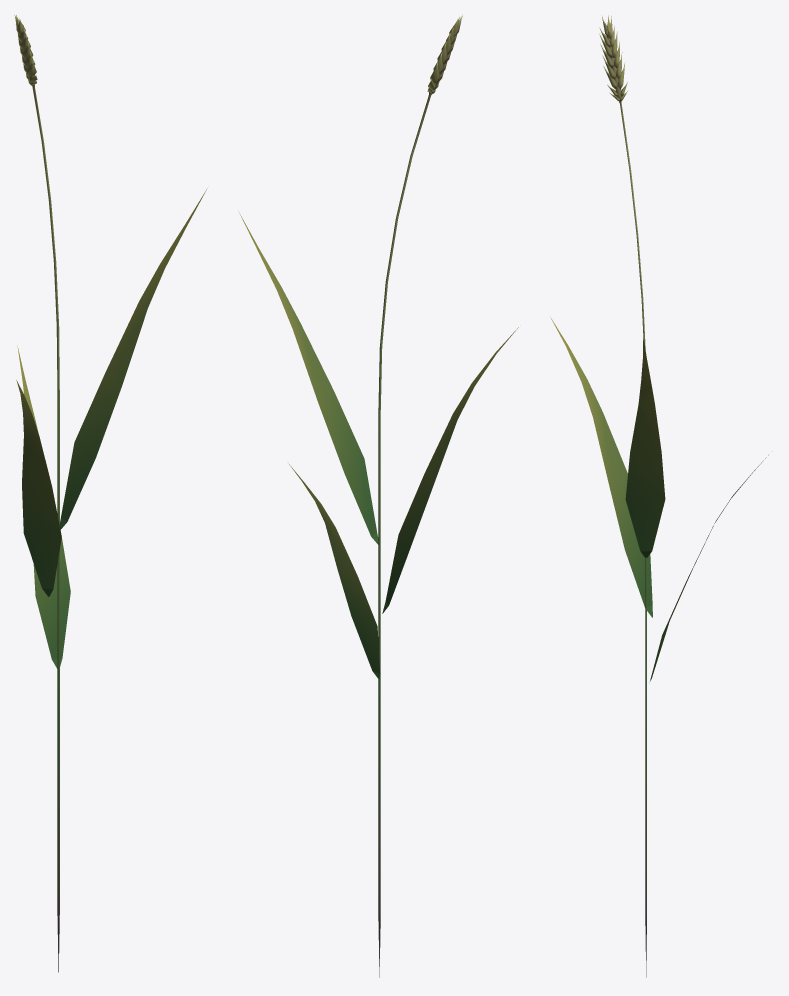
Rendered from trees-grasses-grass-stalk_v6.fbx.
3 views of the same model, side by side, from view 1: azimuth 30°, elevation 25°; view 2: azimuth 150°, elevation 25°; view 3: azimuth 270°, elevation 25° (orthographic). The views are drawn at different scales.
Visible parts, largest first — view 1: Grass Stalk_v6; view 2: Grass Stalk_v6; view 3: Grass Stalk_v6.
Boxes of the visible parts, left/top/right/bottom form: Grass Stalk_v6: left=14, top=15, right=207, bottom=972; Grass Stalk_v6: left=238, top=15, right=518, bottom=977; Grass Stalk_v6: left=550, top=15, right=768, bottom=977.
Bounding box in the file's own units: 0.2034 × 0.8 × 0.1744.
